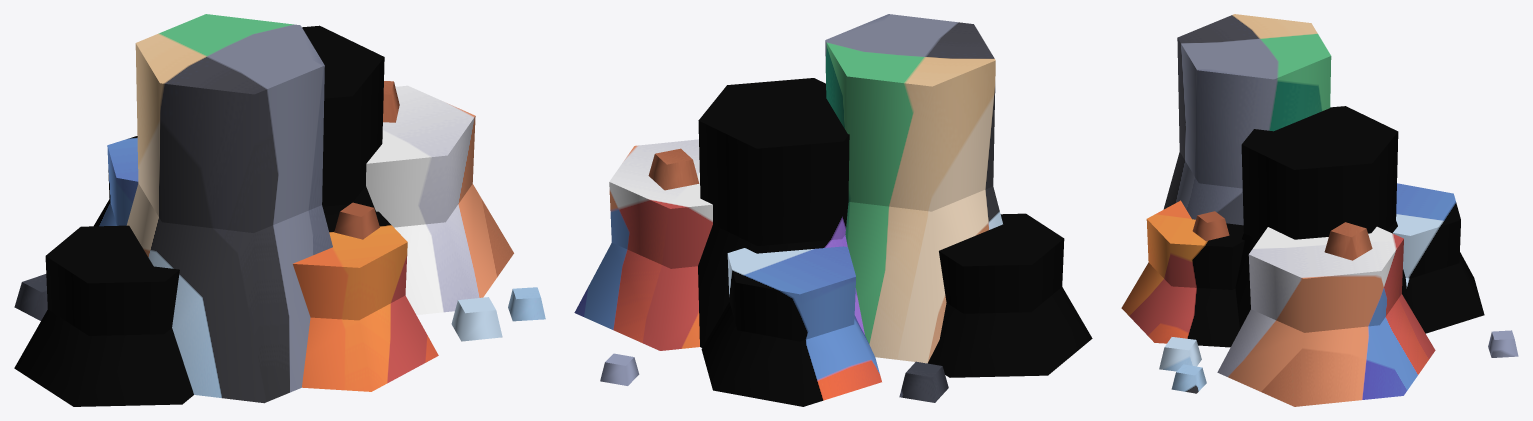
File: SM_Rocks_A.fbx
3 renders of one model, left to right at view 1: azimuth 30°, elevation 25°; view 2: azimuth 150°, elevation 25°; view 3: azimuth 270°, elevation 25°, orthographic. The views are drawn at different scales.
Visible parts, largest first — view 1: rocks-a; view 2: rocks-a; view 3: rocks-a.
Part boxes in pixels (x1,y1,x2,y2): rocks-a: (14, 14, 545, 406); rocks-a: (574, 14, 1092, 406); rocks-a: (1121, 14, 1518, 406).
Size of the model in its own units: 0.395 by 0.2239 by 0.3389.
